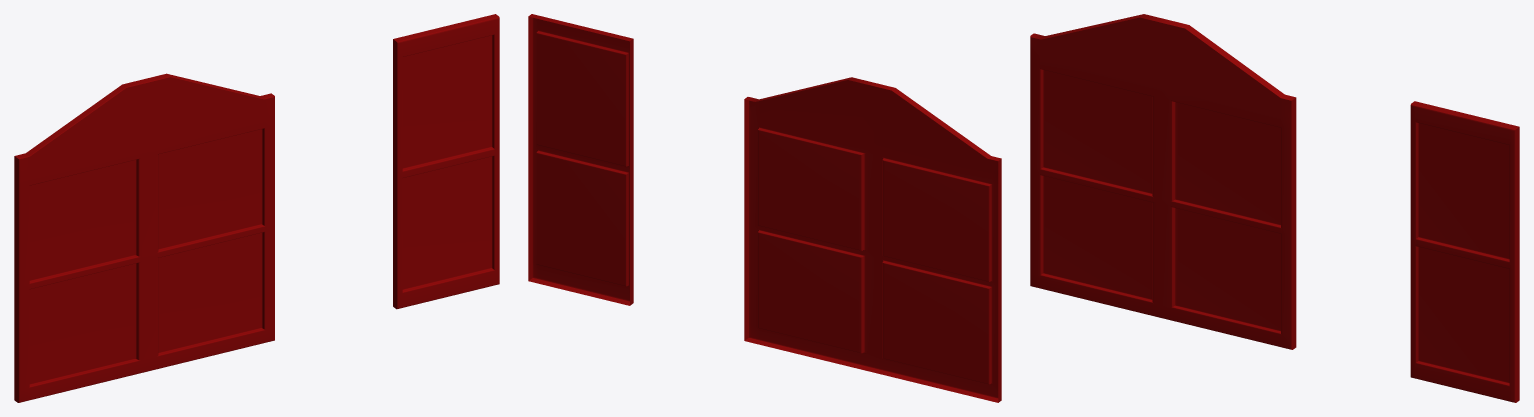
The model's file is Windows_02_low.fbx.
The picture shows the model from 3 angles, left to right: view 1: azimuth 30°, elevation 25°; view 2: azimuth 150°, elevation 25°; view 3: azimuth 330°, elevation 25°; orthographic projection. The views are drawn at different scales.
Visible parts, largest first — view 1: Wide_Window_low, Skinny_Window_low; view 2: Wide_Window_low, Skinny_Window_low; view 3: Wide_Window_low, Skinny_Window_low.
Part boxes in pixels (<box>): Wide_Window_low: <box>14,73,274,402</box>; Skinny_Window_low: <box>393,14,499,309</box>; Wide_Window_low: <box>744,77,1001,402</box>; Skinny_Window_low: <box>528,14,633,305</box>; Wide_Window_low: <box>1030,14,1296,349</box>; Skinny_Window_low: <box>1410,101,1519,402</box>.
Bounding box in the file's own units: 4.27 × 2.47 × 0.1141.
